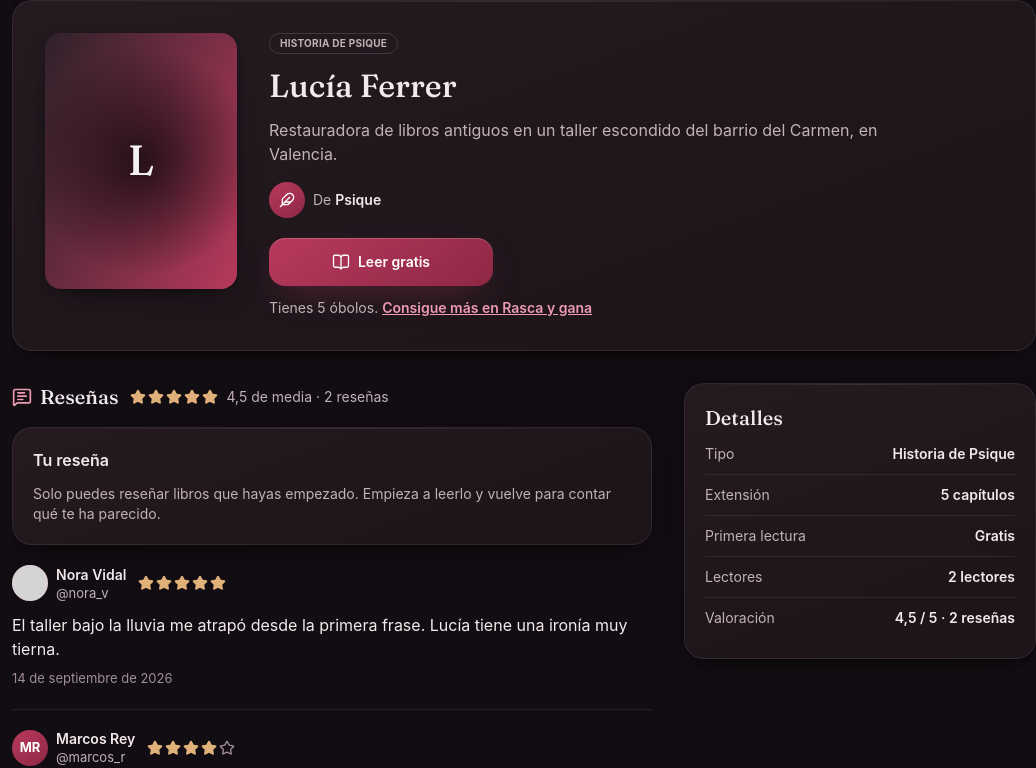
Test case: restricción de cuenta › en la página de libro explica la restricción en vez de un error suelto
Step 1. Click the button "Leer gratis" → (381, 262), box [269,238,493,286]
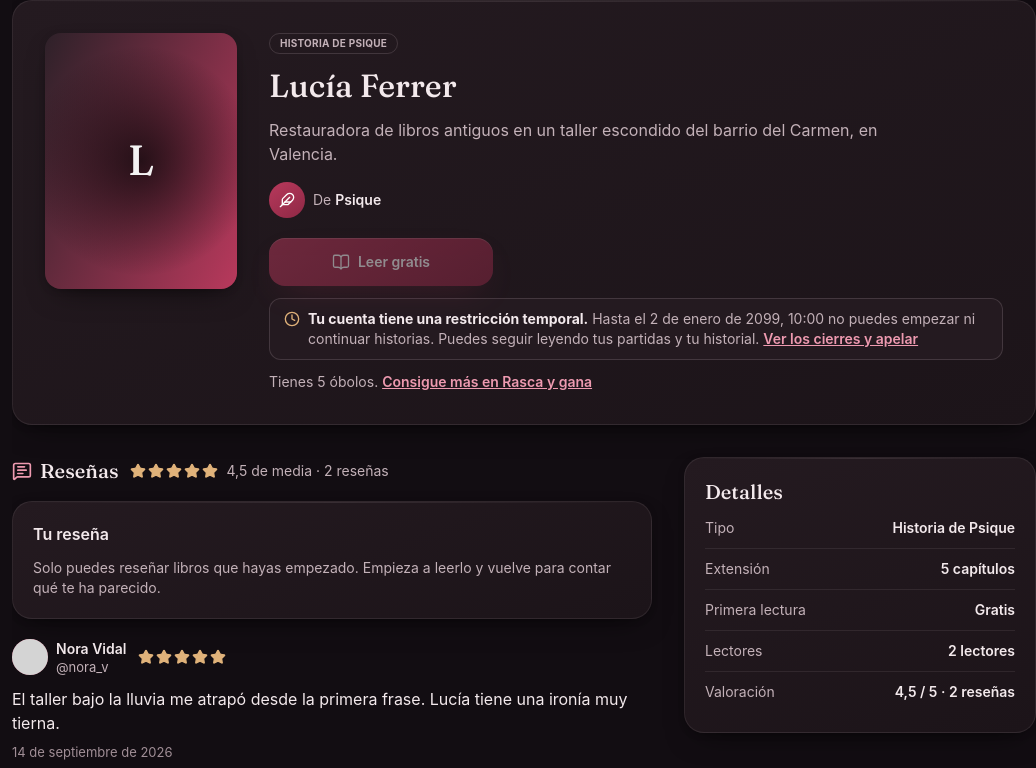
Expected: the message shows "Tu cuenta tiene una restricción temporal.", [308,310,588,327]
Expected: the button "Leer gratis" is disabled, [269,238,493,286]
